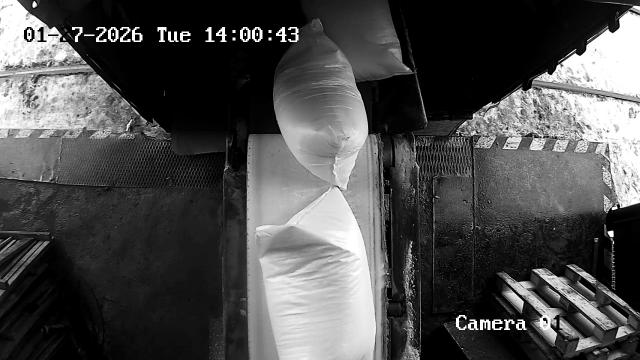bag: (254, 186, 376, 360), (274, 19, 370, 188), (303, 0, 412, 82)
